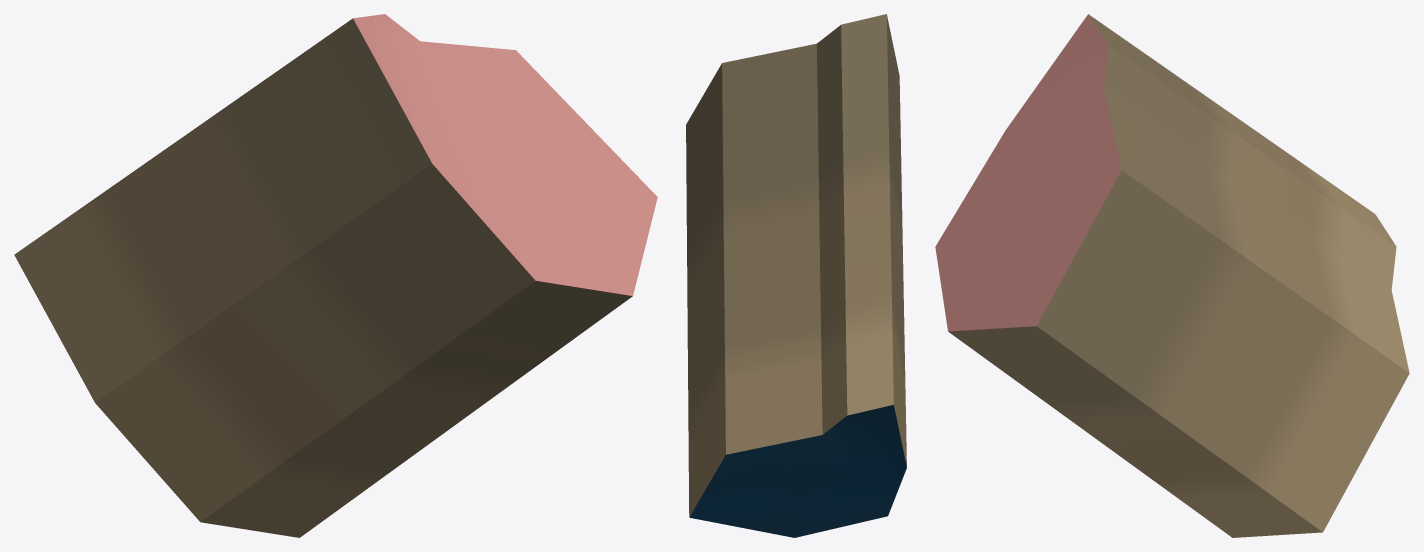
The model's file is 0618_Cyprus.glb.
The picture shows the model from 3 angles, left to right: view 1: azimuth 30°, elevation 25°; view 2: azimuth 150°, elevation 25°; view 3: azimuth 270°, elevation 25°; orthographic projection. The views are drawn at different scales.
Visible parts, largest first — view 1: part_0; view 2: part_0; view 3: part_0.
Part boxes in pixels (box(x1,y1,x2,y2)): part_0: box(14, 14, 657, 537); part_0: box(686, 14, 906, 537); part_0: box(935, 14, 1409, 537).
Size of the model in its own units: 0.1995 by 0.2495 by 0.2097.
1 material, 1 textured.
